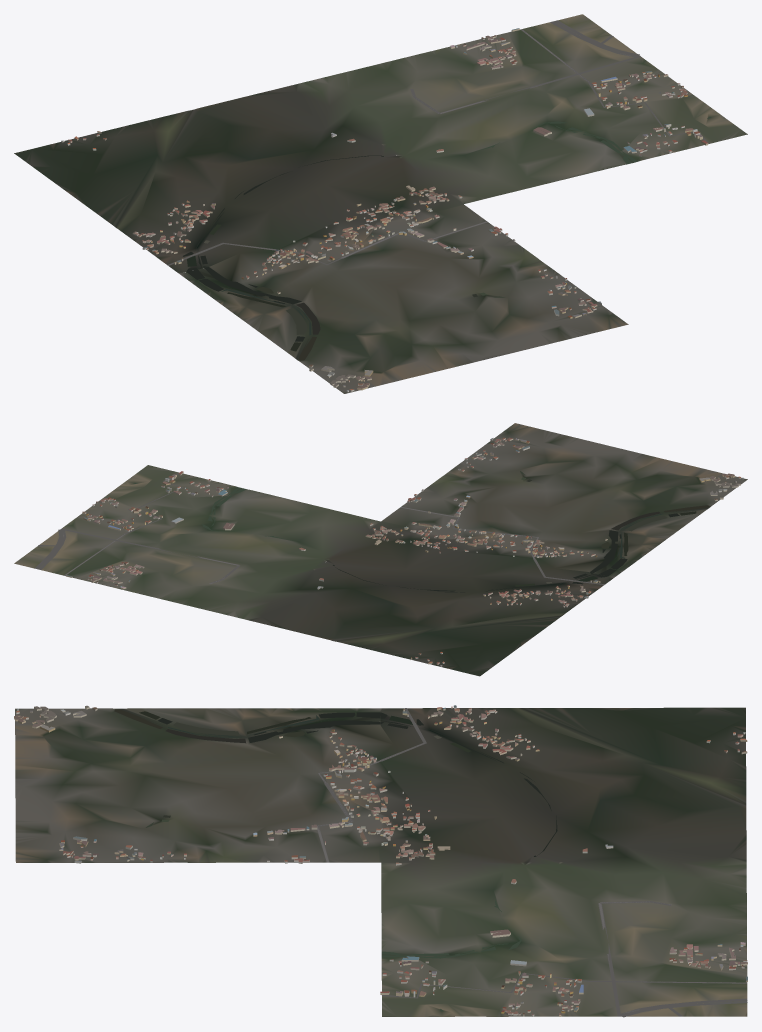
3 renders of one model, top to bottom at view 1: azimuth 30°, elevation 25°; view 2: azimuth 150°, elevation 25°; view 3: azimuth 270°, elevation 25°, orthographic. The views are drawn at different scales.
Visible parts, largest first — view 1: ground, buildings, water, roads; view 2: ground, buildings, water, roads; view 3: ground, buildings, water, roads.
Boxes of the visible parts, x1,y1,x2,y2 form: ground: [14, 14, 747, 393]; buildings: [61, 28, 708, 392]; water: [183, 116, 710, 360]; roads: [167, 20, 708, 265]; ground: [14, 423, 747, 676]; buildings: [66, 437, 743, 666]; water: [134, 471, 709, 592]; roads: [35, 473, 604, 584]; ground: [15, 707, 747, 1016]; buildings: [14, 705, 747, 1016]; water: [114, 709, 557, 1011]; roads: [317, 708, 747, 1017].
Bounding box in the file's own units: 2818 × 20.64 × 2816.
